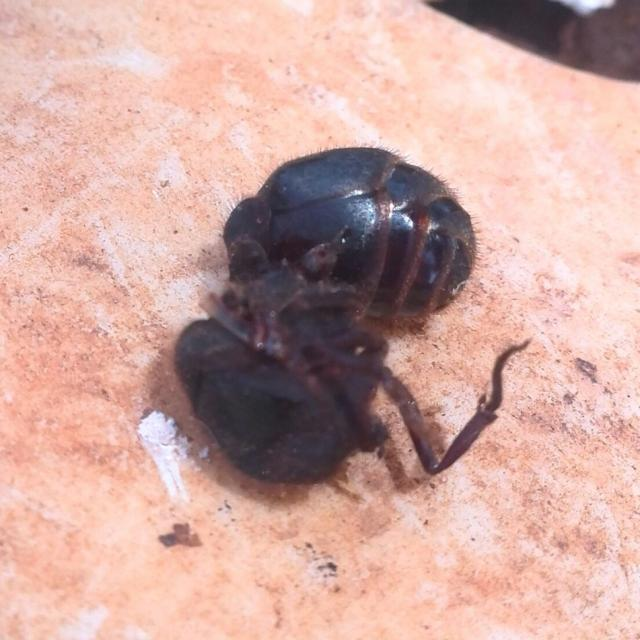Dead-Female-Dealate: (172, 144, 533, 486)
